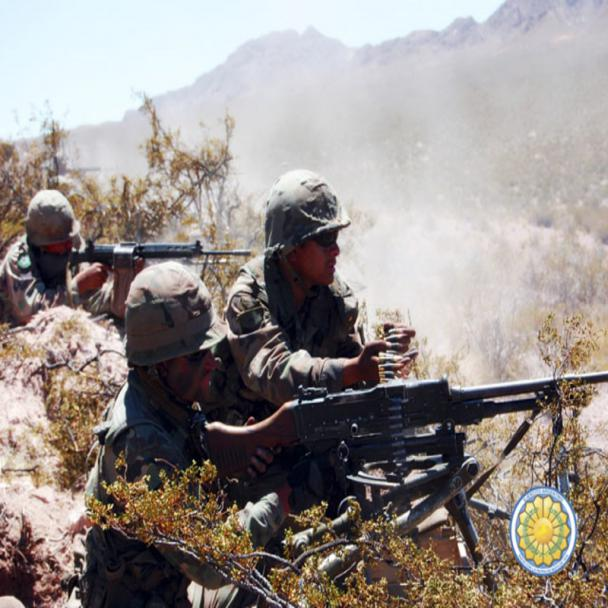Gun: (204, 369, 607, 472), (83, 237, 261, 272)
